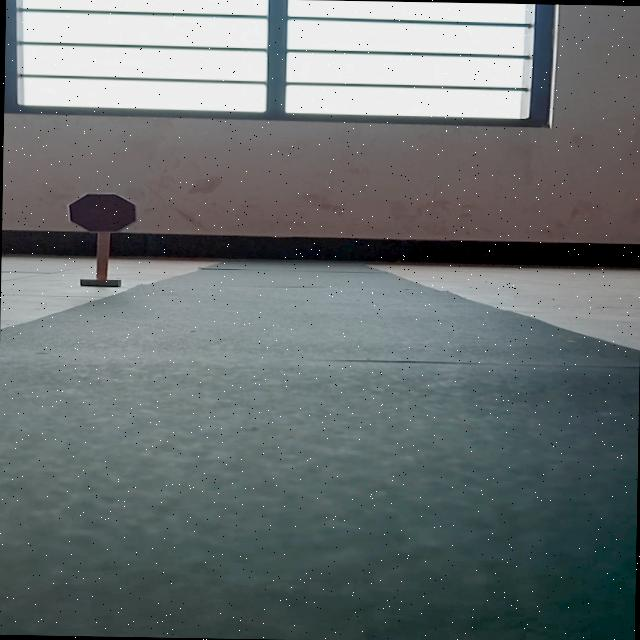Stop: (66, 192, 138, 234)
